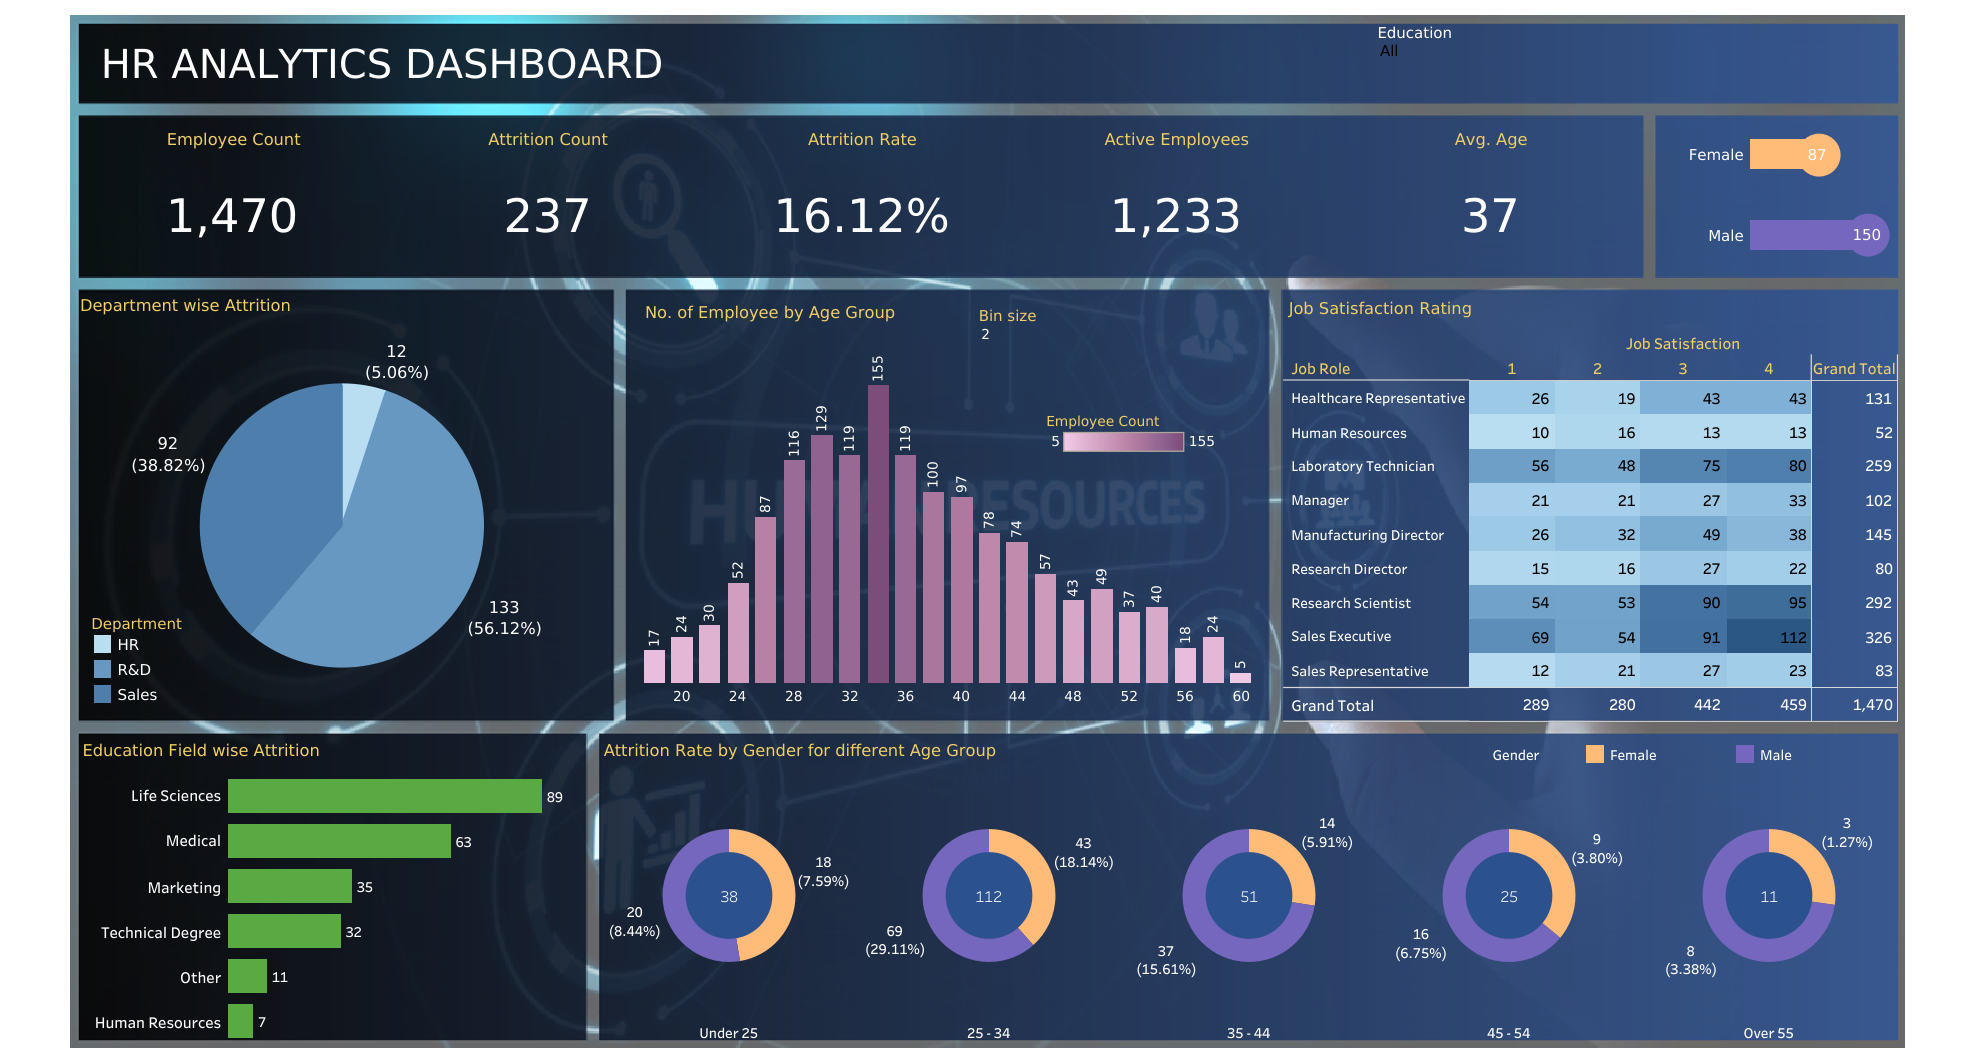

This screenshot's page, from the dashboard's own definition file:
{"tool":"tableau","page":{"name":"HR Analytics Dashboard","canvas":[1580,850],"ordinal":0},"visuals":[{"type":"image","param":"Image/HR background.png","box":[8,8,1564,834]},{"type":"filter","title":"Department wise Attrition","param":"[federated.1hvcanz1yowspb12mfwna1ok2ul5].[none:Education:nk]","box":[1102,17,415,61]},{"type":"text","box":[78,19,619,64]},{"type":"worksheet","title":"Attrition by Gender","mark":"Bar","rows":["Gender"],"cols":["Calculation_1273392856251740160","Calculation_1273392856251740160"],"box":[1320,91,197,129]},{"type":"worksheet","title":"KPI","mark":"Automatic","box":[61,101,1258,125]},{"type":"worksheet","title":"Department wise Attrition","mark":"Pie","box":[60,230,427,348]},{"type":"worksheet","title":"Job Satisfaction Rating","mark":"Square","rows":["Job Role"],"cols":["Job Satisfaction"],"box":[1027,232,492,346]},{"type":"worksheet","title":"No. of Employee by Age Group","mark":"Automatic","rows":["Employee Count"],"cols":["Age (bin)"],"box":[512,235,492,331]},{"type":"parameter","param":"[Parameters].[Parameter 1]","box":[783,244,208,71]},{"type":"legend","title":"No. of Employee by Age Group","param":"[federated.1hvcanz1yowspb12mfwna1ok2ul5].[sum:Employee Count:qk]","box":[837,326,140,50]},{"type":"legend","title":"Department wise Attrition","param":"[federated.1hvcanz1yowspb12mfwna1ok2ul5].[none:Department:nk]","box":[72,489,106,81]},{"type":"worksheet","title":"Education Field wise Attrition","mark":"Automatic","rows":["Education Field"],"cols":["Calculation_1273392856251740160"],"box":[62,586,408,249]},{"type":"worksheet","title":"Attrition Rate by Gender for different Age Group","mark":"Pie","rows":["Calculation_2145965284392886273","Calculation_2145965284392886273"],"cols":["CF_age band"],"box":[479,586,1040,248]},{"type":"legend","title":"Attrition Rate by Gender for different Age Group","param":"[federated.1hvcanz1yowspb12mfwna1ok2ul5].[none:Gender:nk]","box":[1194,593,314,23]}]}

Visuals, with their boxes in screenshot pixels (x1, y1, x2, y2), scaled from the page's 1580x850 canvas onto the 1974x1061 screenshot:
image: [x1=10, y1=10, x2=1964, y2=1051]
"Department wise Attrition" filter: [x1=1377, y1=21, x2=1895, y2=97]
text: [x1=97, y1=24, x2=871, y2=104]
"Attrition by Gender" worksheet (Bar marks): [x1=1649, y1=114, x2=1895, y2=275]
"KPI" worksheet: [x1=76, y1=126, x2=1648, y2=282]
"Department wise Attrition" worksheet (Pie marks): [x1=75, y1=287, x2=608, y2=721]
"Job Satisfaction Rating" worksheet (Square marks): [x1=1283, y1=290, x2=1898, y2=721]
"No. of Employee by Age Group" worksheet: [x1=640, y1=293, x2=1254, y2=707]
parameter: [x1=978, y1=305, x2=1238, y2=393]
"No. of Employee by Age Group" legend: [x1=1046, y1=407, x2=1221, y2=469]
"Department wise Attrition" legend: [x1=90, y1=610, x2=222, y2=711]
"Education Field wise Attrition" worksheet: [x1=77, y1=731, x2=587, y2=1042]
"Attrition Rate by Gender for different Age Group" worksheet (Pie marks): [x1=598, y1=731, x2=1898, y2=1041]
"Attrition Rate by Gender for different Age Group" legend: [x1=1492, y1=740, x2=1884, y2=769]
